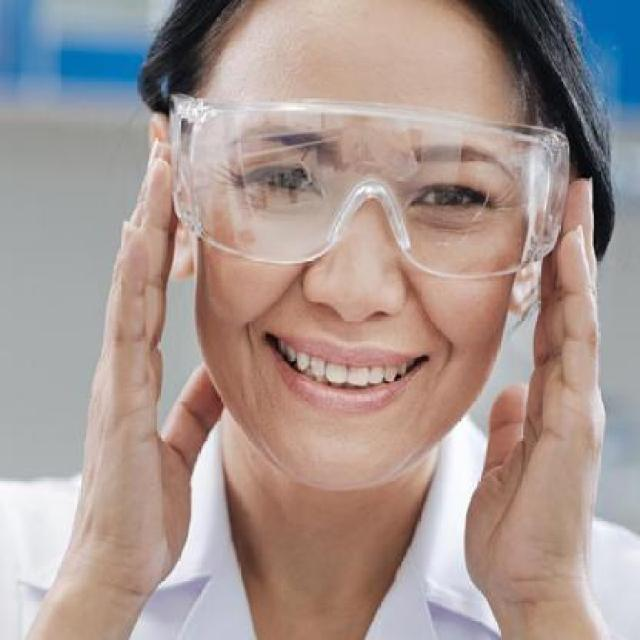face_nomask: (238, 148, 491, 408)
glasses: (170, 92, 575, 280)
hand_noglove: (448, 156, 612, 618), (80, 102, 226, 575)
